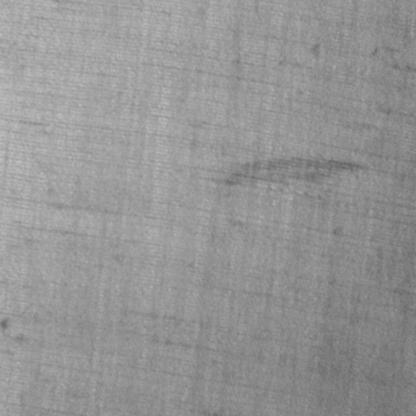oil spot: (222, 154, 370, 188)
